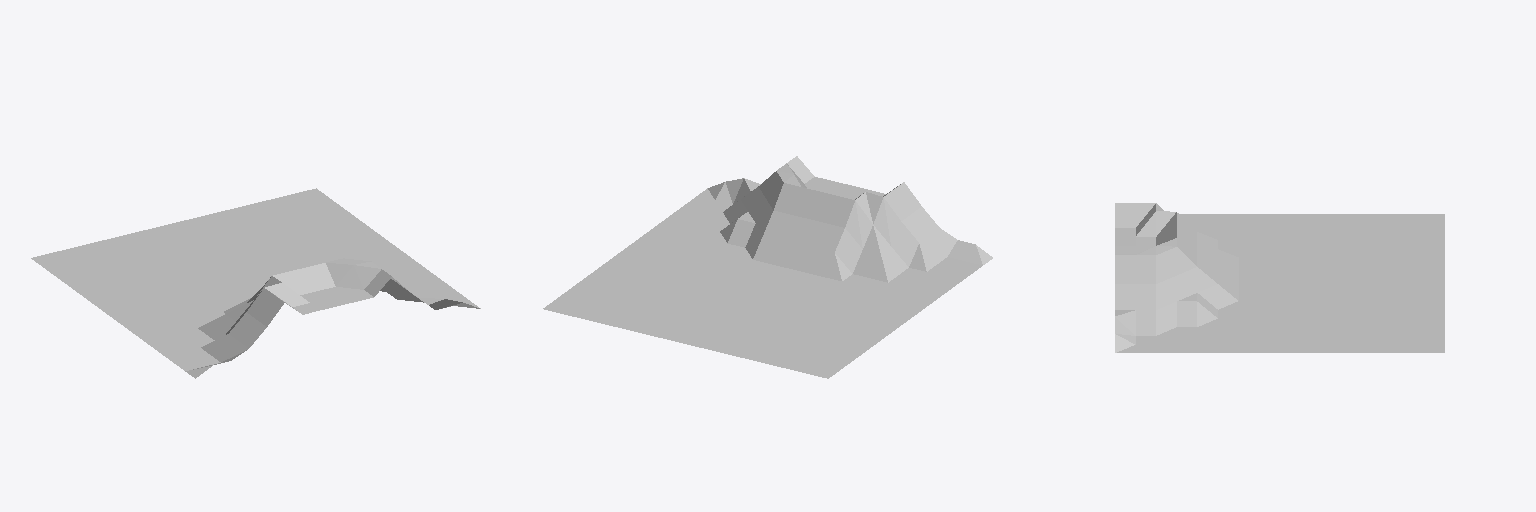
Rendered from sideRock_4.obj.
The picture shows the model from 3 angles: view 1: azimuth 30°, elevation 25°; view 2: azimuth 150°, elevation 25°; view 3: azimuth 270°, elevation 25°; orthographic projection.
Parts seen in each view (by area): view 1: sideRock_4; view 2: sideRock_4; view 3: sideRock_4.
Part boxes in pixels (left/top/right/bottom): sideRock_4: left=31, top=188, right=480, bottom=378; sideRock_4: left=543, top=156, right=992, bottom=378; sideRock_4: left=1115, top=203, right=1444, bottom=352.
Size of the model in its own units: 16 by 2.95 by 16.